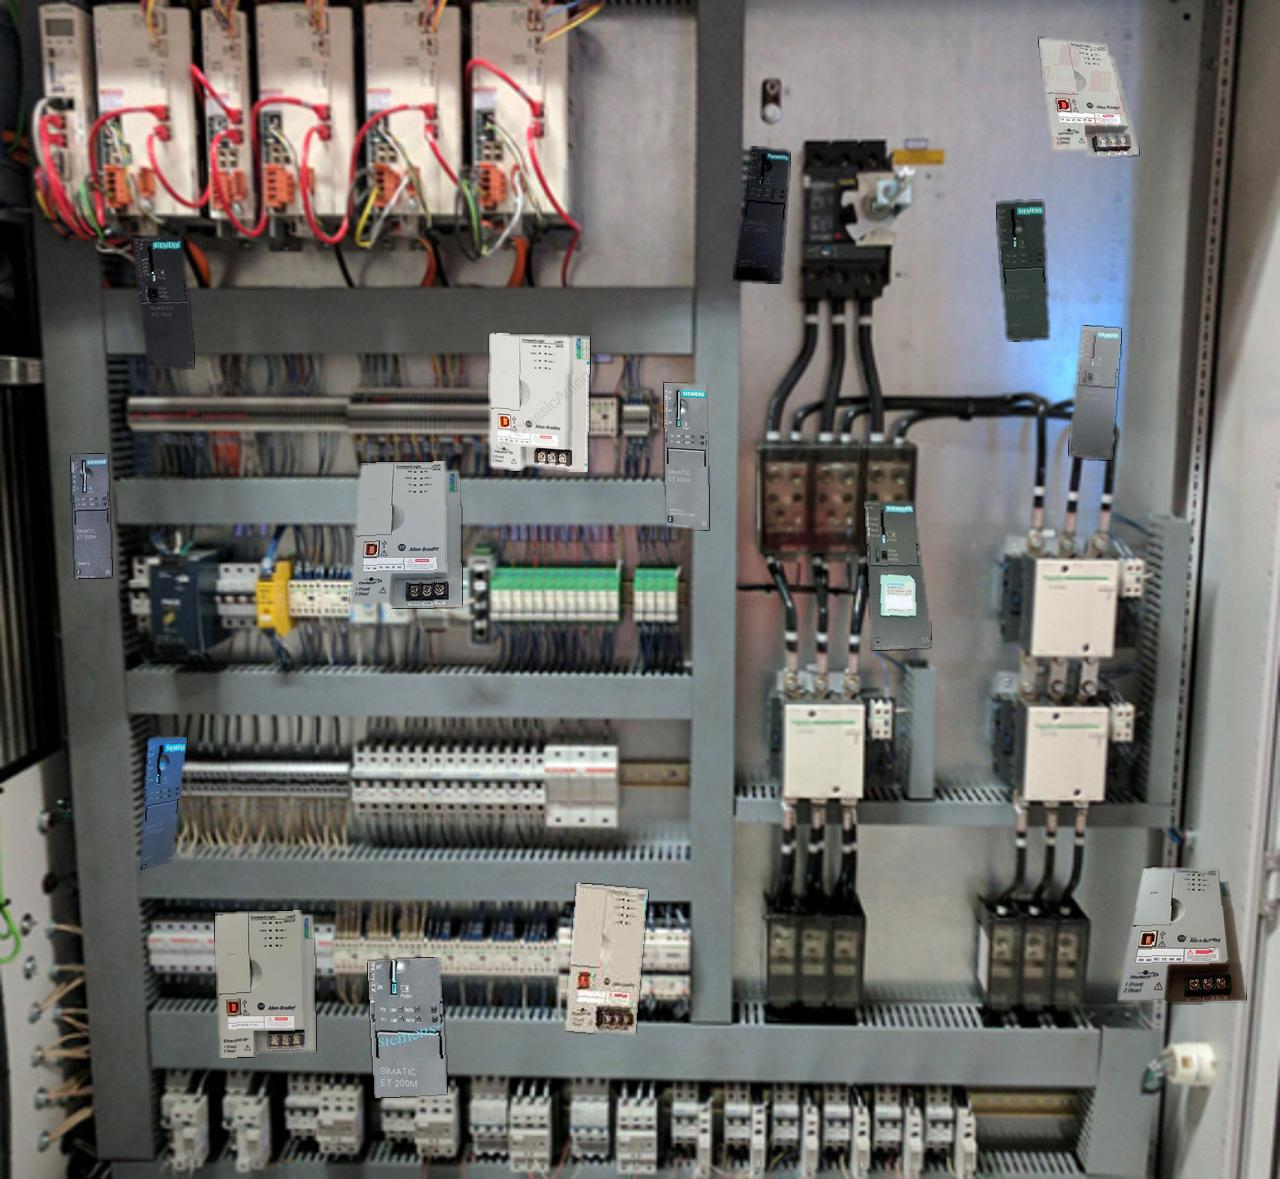AllenBradley: (1117, 867, 1245, 1002), (350, 461, 460, 607), (215, 910, 316, 1057), (489, 334, 589, 471), (565, 883, 647, 1033), (1039, 38, 1138, 156)
Siemens: (864, 500, 931, 649), (132, 235, 194, 368), (1069, 326, 1119, 460)
